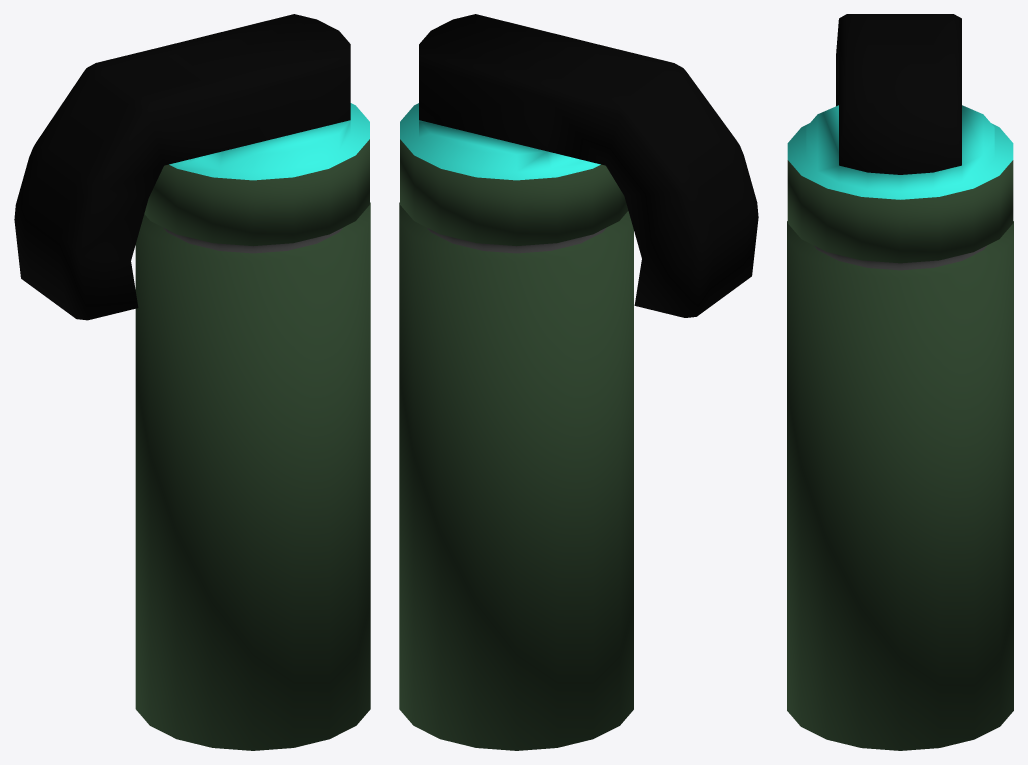
Rendered from GrenadeExport.FBX.
3 renders of one model, left to right at view 1: azimuth 30°, elevation 25°; view 2: azimuth 150°, elevation 25°; view 3: azimuth 270°, elevation 25°, orthographic. The views are drawn at different scales.
Visible parts, largest first — view 1: Cylinder001; view 2: Cylinder001; view 3: Cylinder001.
Boxes of the visible parts, <box> form: Cylinder001: <box>14,14,370,750</box>; Cylinder001: <box>399,14,758,750</box>; Cylinder001: <box>787,14,1013,750</box>.
Bounding box in the file's own units: 5.63 × 11.06 × 3.63.
